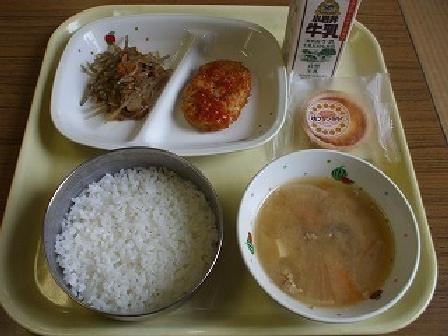Cup desserts: (285, 81, 395, 157)
Meat: (180, 46, 265, 133)
Milk: (278, 0, 365, 80)
Rice: (44, 157, 219, 304)
Soups: (241, 153, 409, 311)
salad with sauce: (86, 39, 166, 117)
